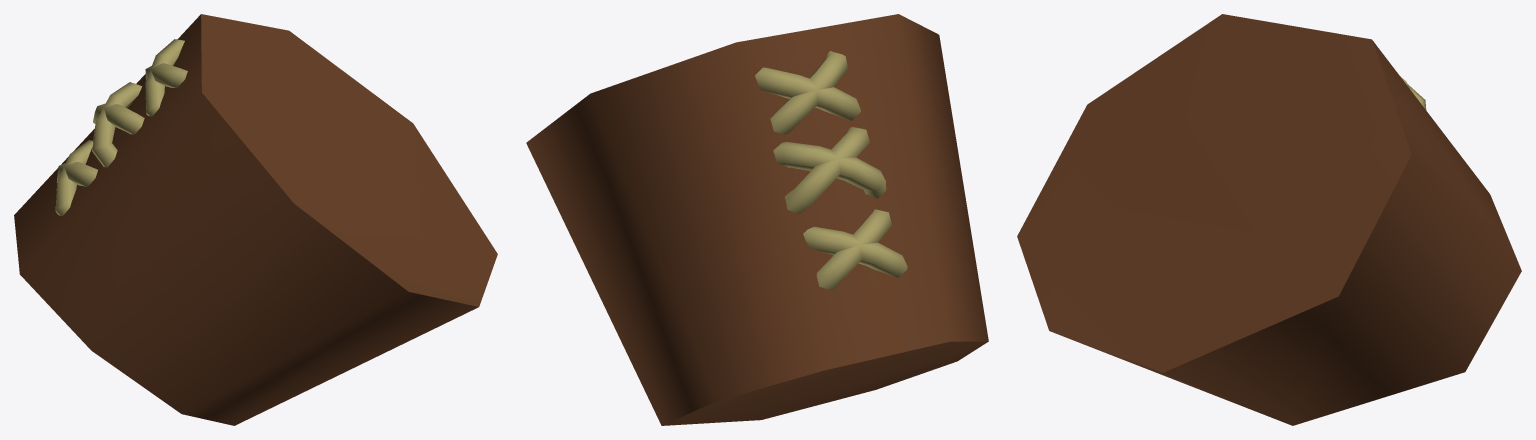
The model's file is Armguard_WithLaces_Left.fbx.
3 renders of one model, left to right at view 1: azimuth 30°, elevation 25°; view 2: azimuth 150°, elevation 25°; view 3: azimuth 270°, elevation 25°, orthographic. The views are drawn at different scales.
Parts seen in each view (by area): view 1: Armguard_WithLaces_Left; view 2: Armguard_WithLaces_Left; view 3: Armguard_WithLaces_Left.
Boxes of the visible parts, x1,y1,x2,y2 form: Armguard_WithLaces_Left: [14, 14, 497, 425]; Armguard_WithLaces_Left: [526, 14, 988, 425]; Armguard_WithLaces_Left: [1017, 14, 1521, 425].
Size of the model in its own units: 0.163 by 0.1756 by 0.1453.
